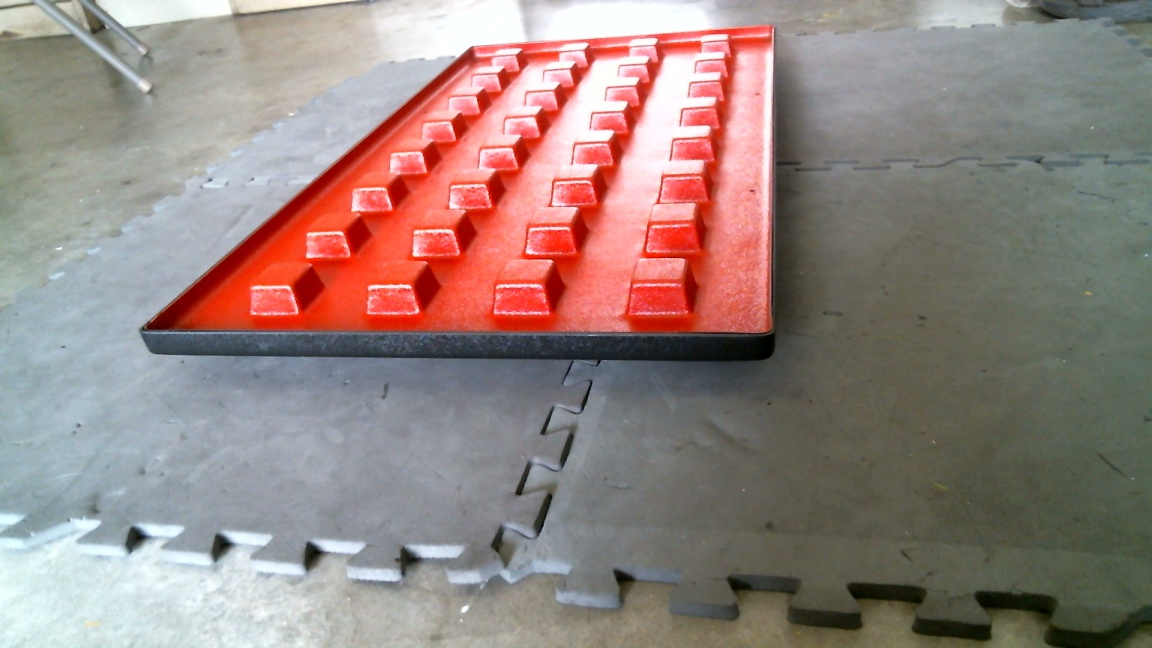red_foundation: (140, 23, 780, 365)
